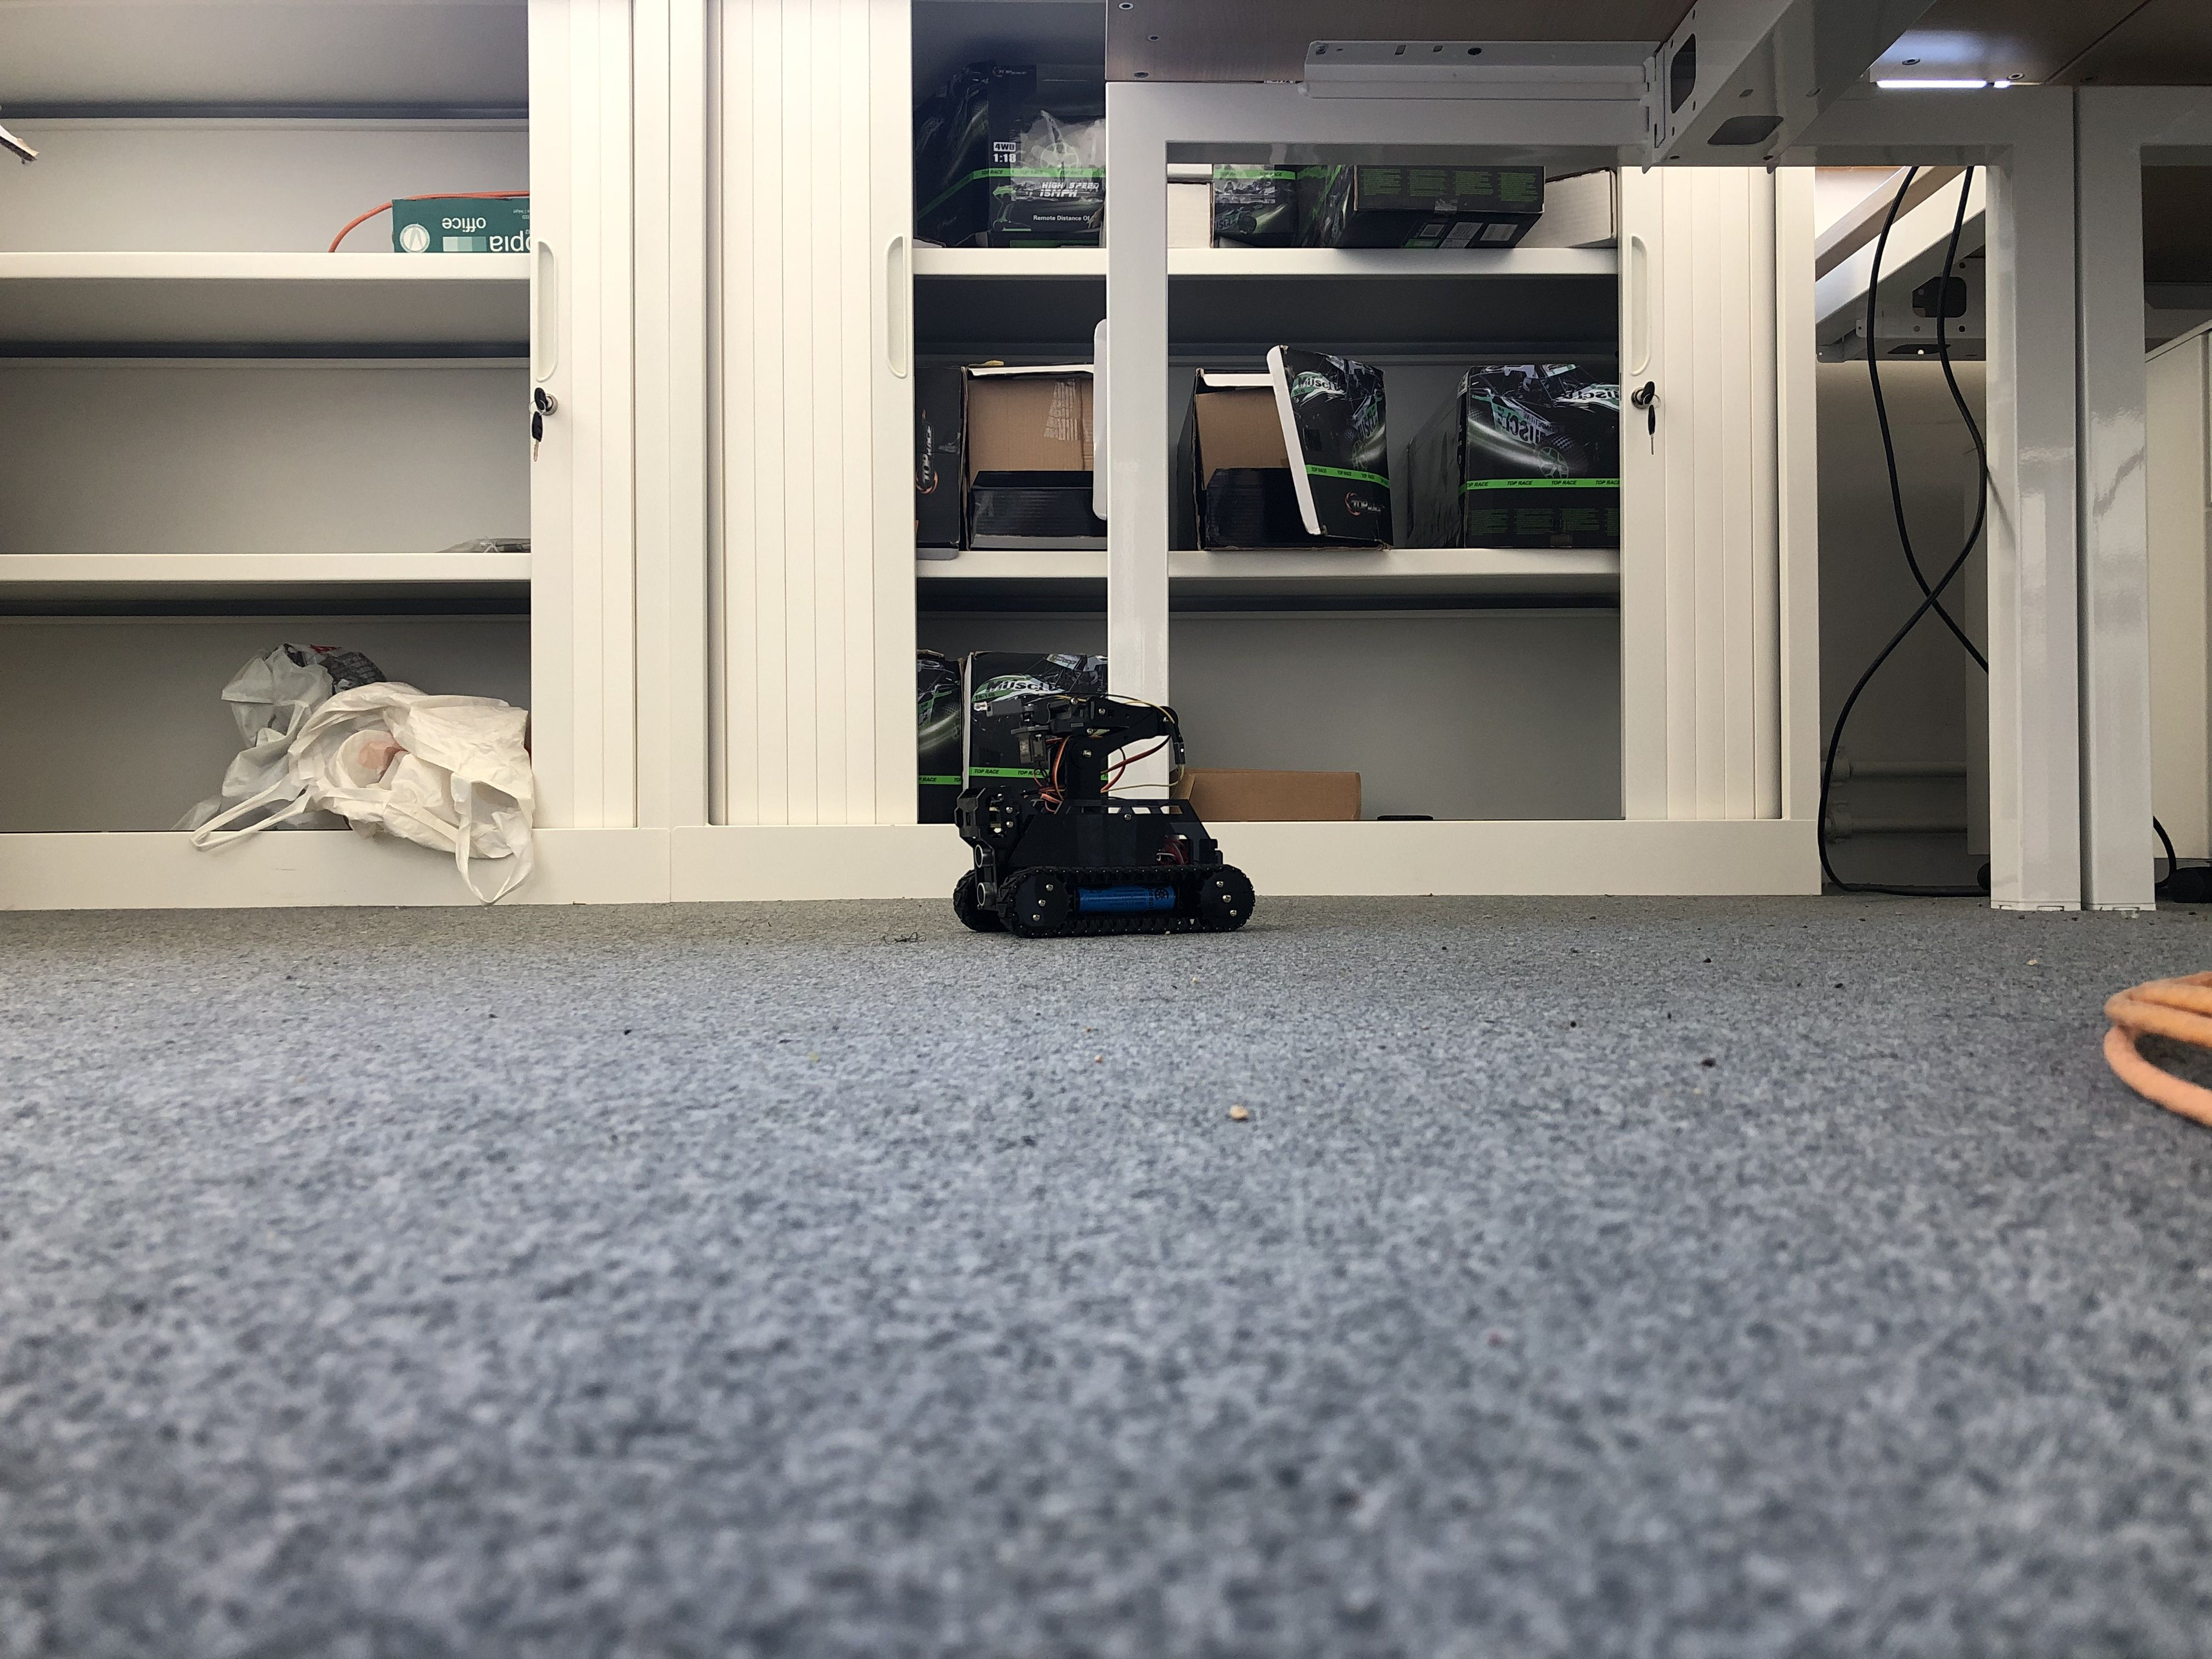rasptank: (942, 701, 1268, 939)
